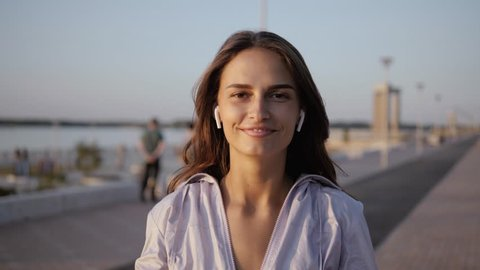earphone: (210, 101, 223, 129), (295, 104, 307, 132)
